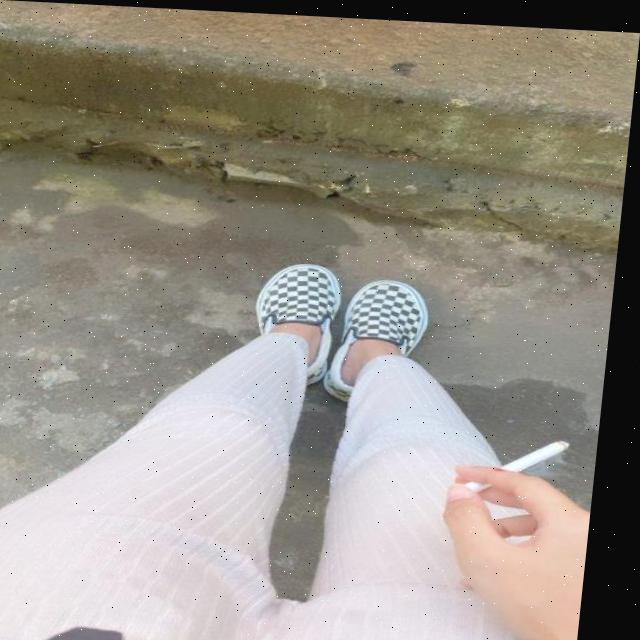cigarette: (475, 428, 581, 492)
